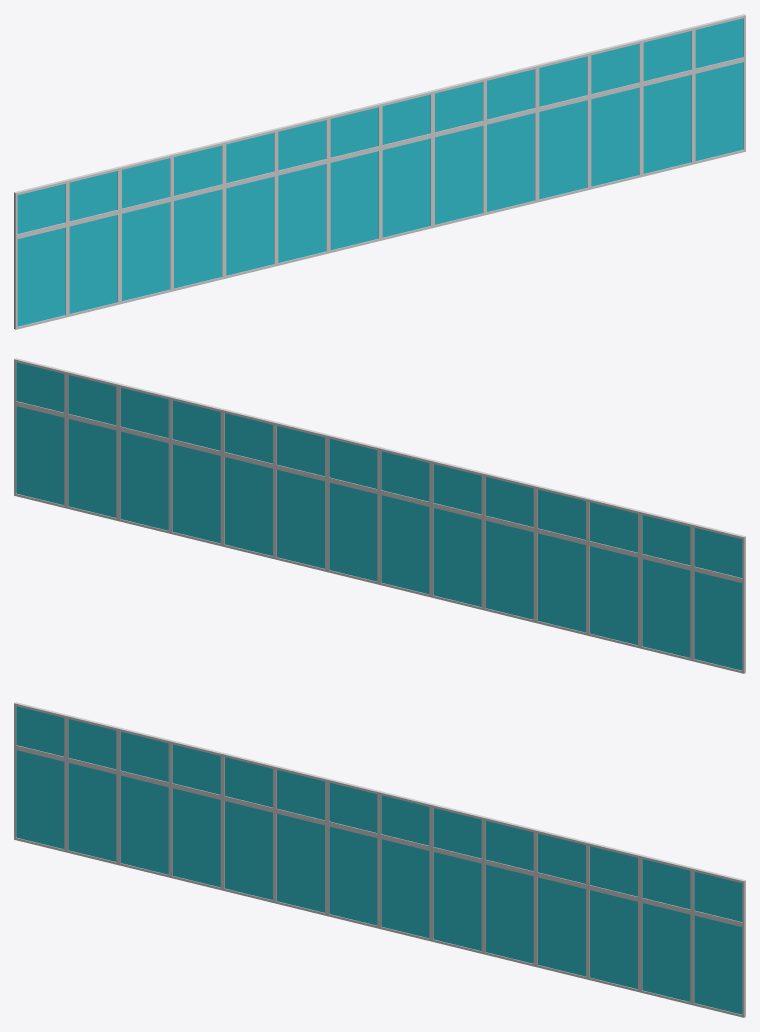
File: windows.fbx
The picture shows the model from 3 angles, top to bottom: view 1: azimuth 30°, elevation 25°; view 2: azimuth 150°, elevation 25°; view 3: azimuth 330°, elevation 25°; orthographic projection.
Parts seen in each view (by area): view 1: Куб.001; view 2: Куб.001; view 3: Куб.001.
Boxes of the visible parts, <box> form: Куб.001: <box>14,14,745,329</box>; Куб.001: <box>14,358,745,673</box>; Куб.001: <box>14,702,745,1017</box>.
Size of the model in its own units: 1736 by 310 by 7.
